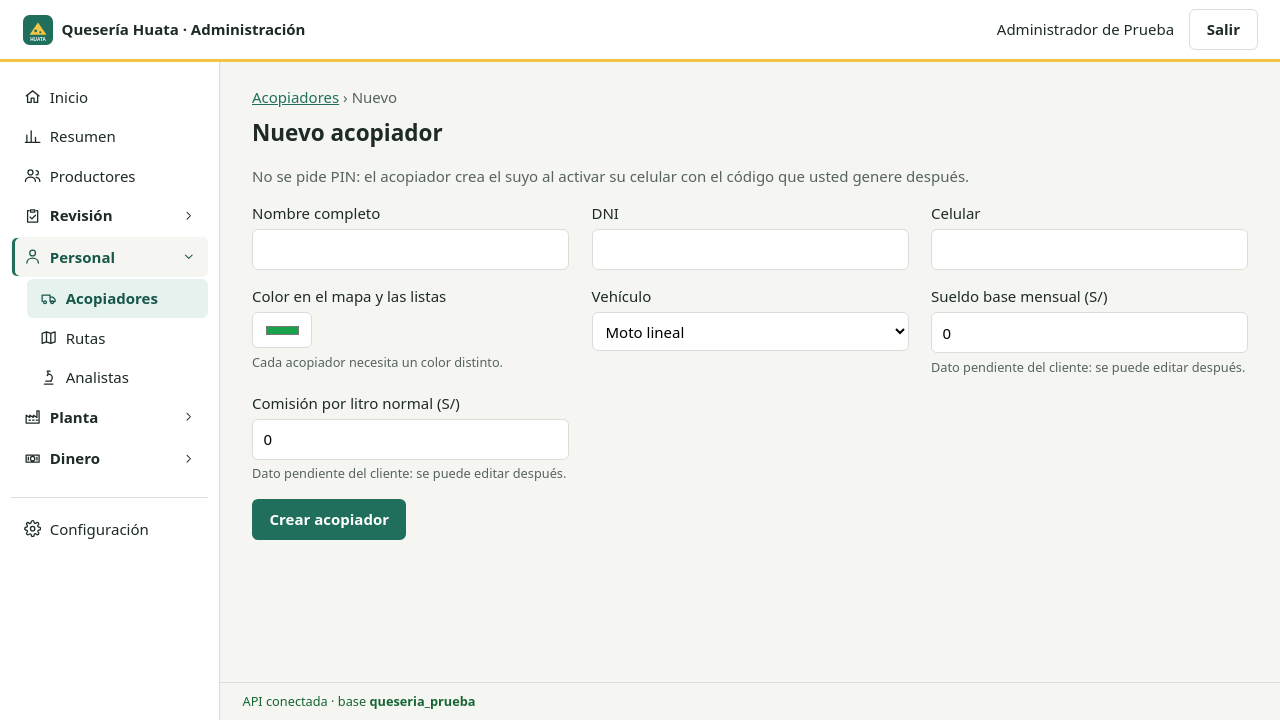
nuevo acopiador › valida en el navegador y no envía datos malos
The width and height of the screenshot is (1280, 720).
Expected: the field labelled "Nombre completo" is shown, [252,229,569,270]
In the field labelled "DNI": [750, 250] box [592,229,908,270], type "1234"
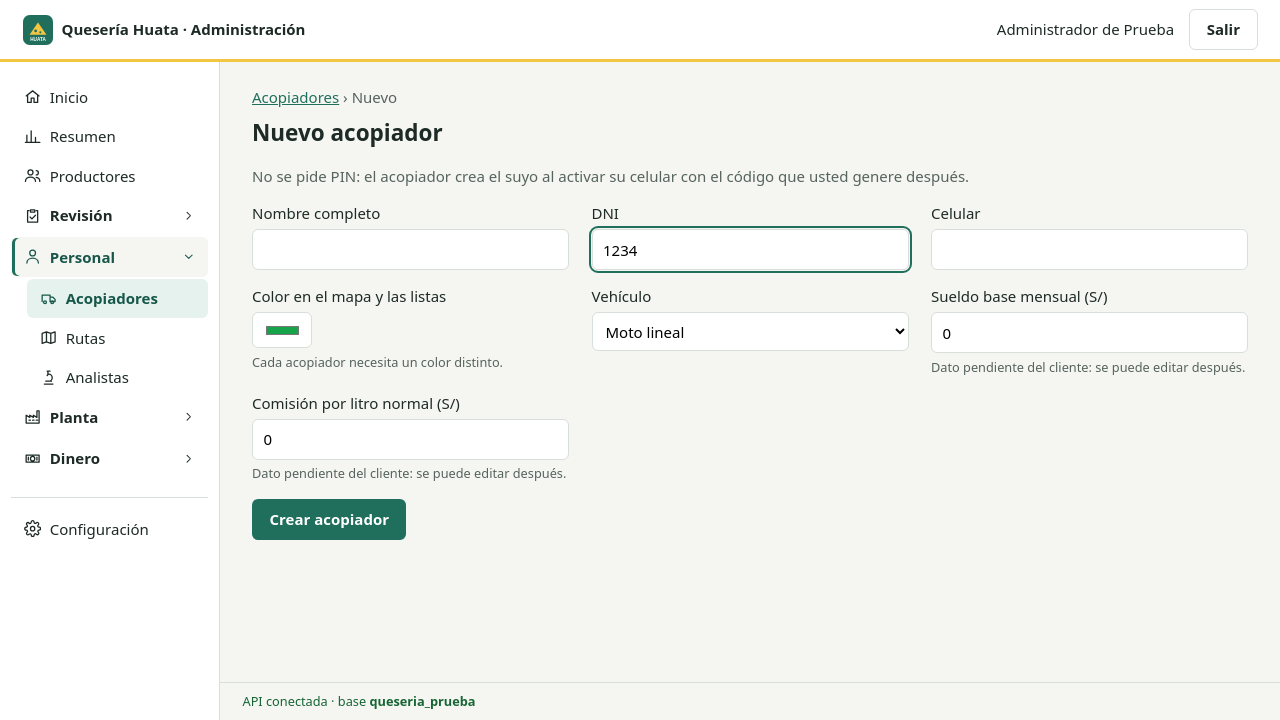
In the field labelled "Celular": [1090, 250] box [931,229,1248,270], type "12345678"
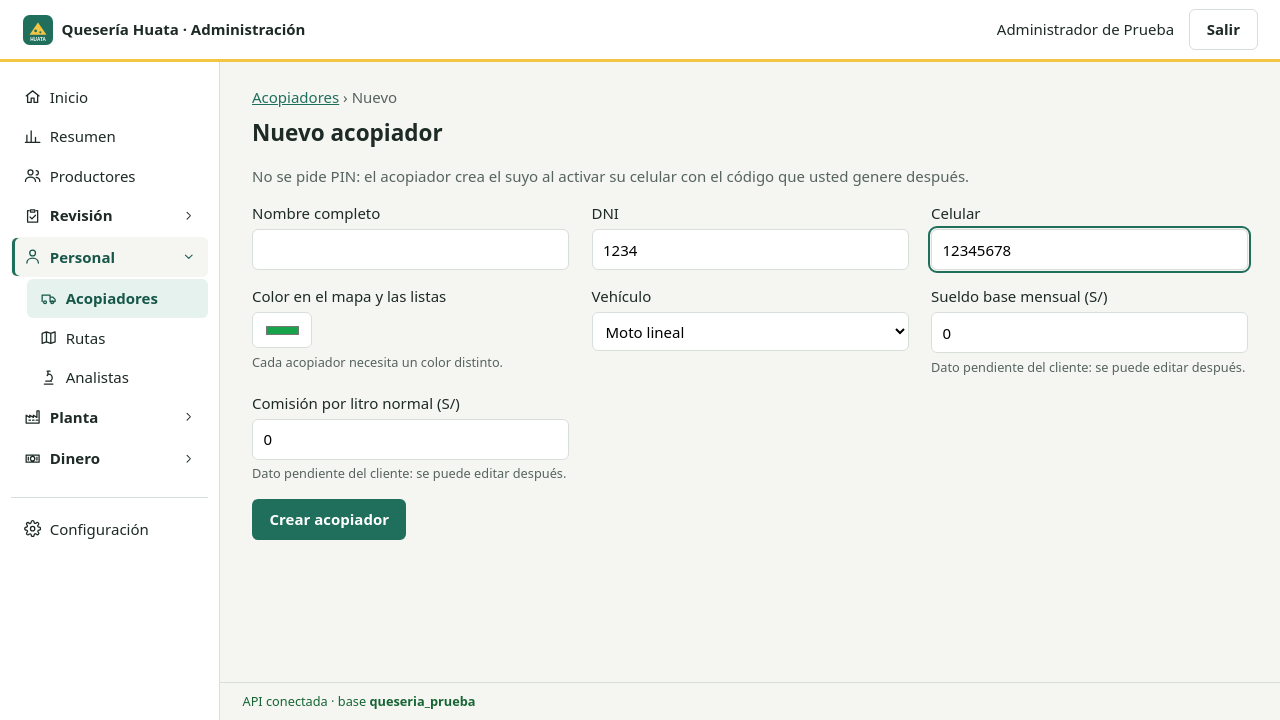
Replace the text in the field labelled "Sueldo base mensual (S/)" with "-5": [1090, 333] box [931,312,1248,353]
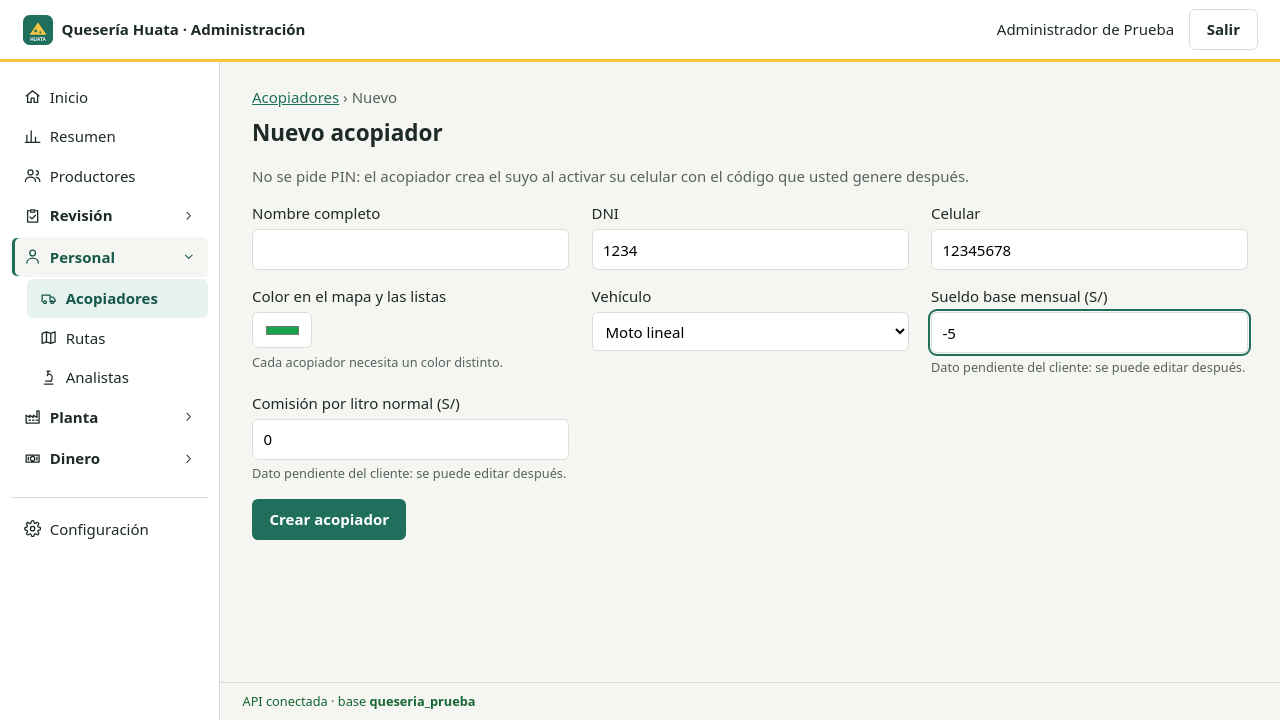
Replace the text in the field labelled "Comisión por litro normal (S/)" with "0.0505": [410, 439] box [252,419,569,460]
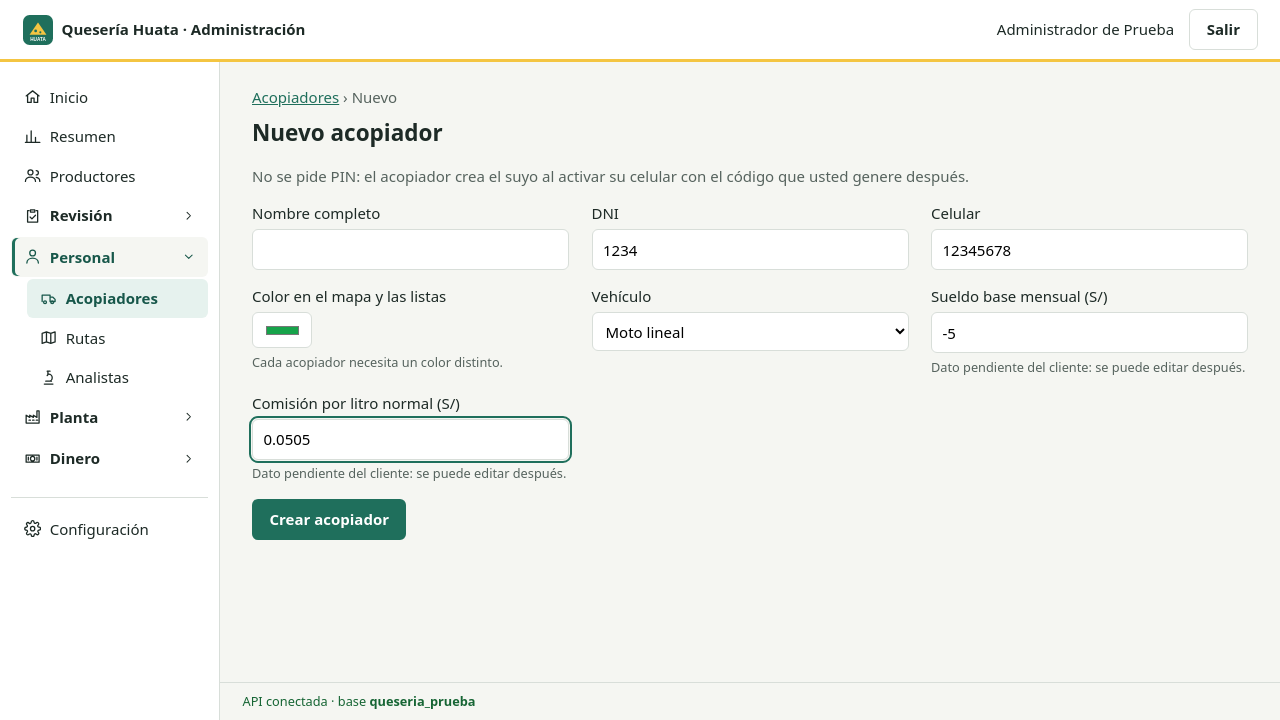
Click the button "Crear acopiador": [329, 519] box [252,498,406,540]
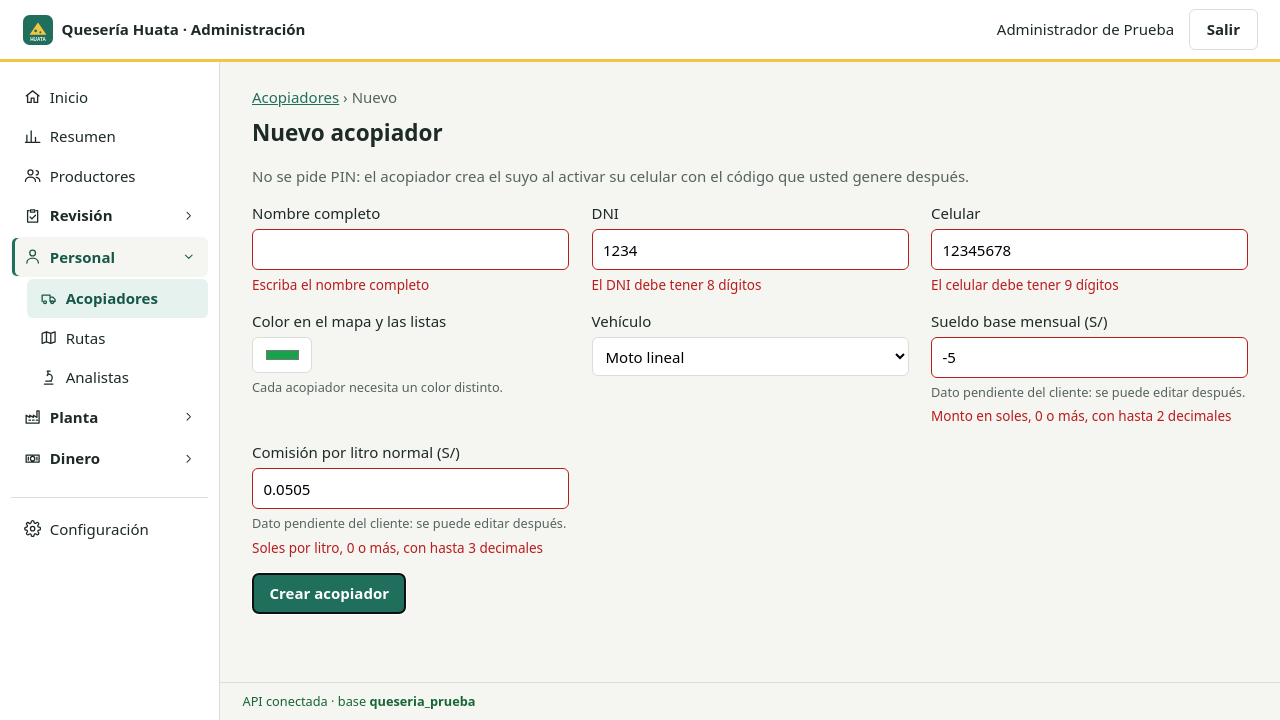
Expected: the text "Escriba el nombre completo" is shown, [252,276,429,294]
Expected: the text "Monto en soles, 0 o más, con hasta 2 decimales" is shown, [931,406,1248,426]
Expected: the text "Soles por litro, 0 o más, con hasta 3 decimales" is shown, [252,538,569,558]
